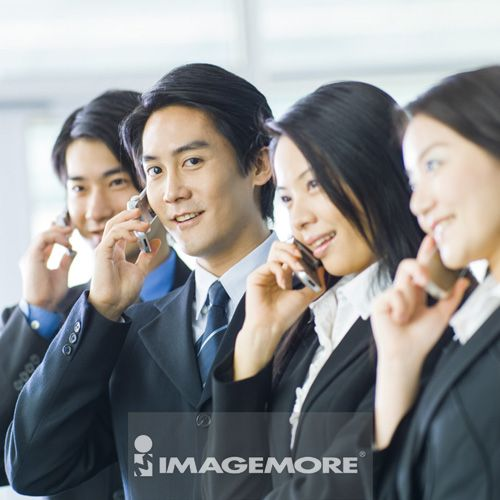talk: (87, 134, 216, 327), (244, 163, 347, 355)
